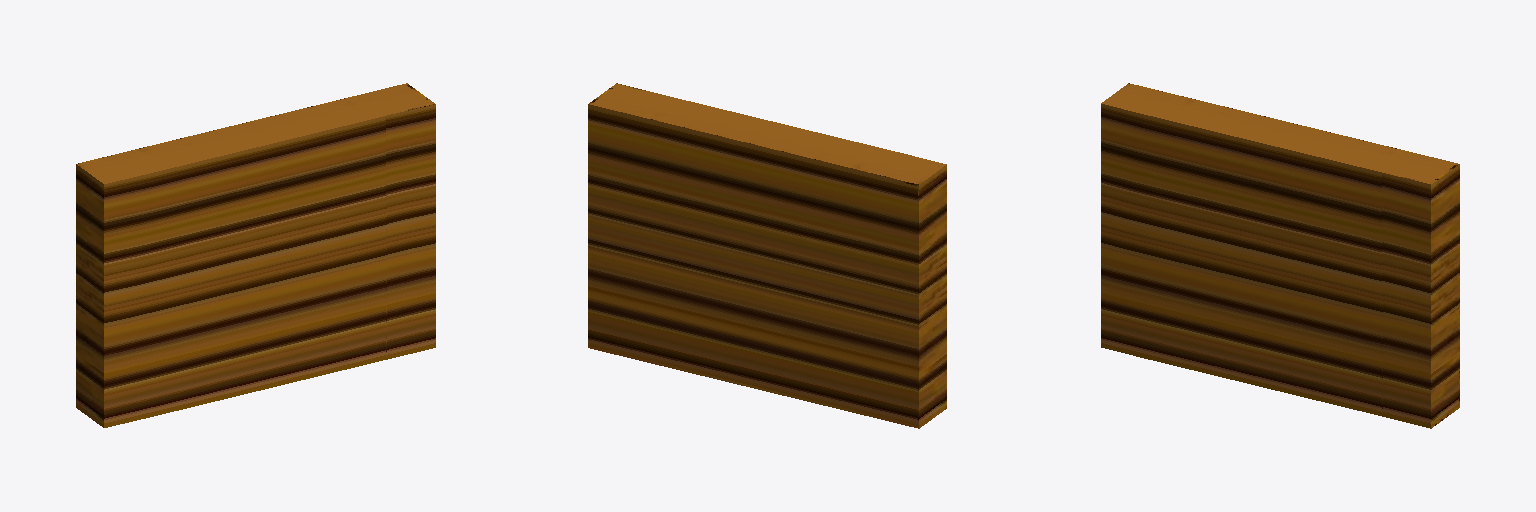
The picture shows the model from 3 angles: view 1: azimuth 30°, elevation 25°; view 2: azimuth 150°, elevation 25°; view 3: azimuth 330°, elevation 25°; orthographic projection.
Visible parts, largest first — view 1: Cube.013_Cube.056; view 2: Cube.013_Cube.056; view 3: Cube.013_Cube.056.
Part boxes in pixels (left/top/right/bottom): Cube.013_Cube.056: left=76, top=83, right=435, bottom=427; Cube.013_Cube.056: left=588, top=83, right=946, bottom=428; Cube.013_Cube.056: left=1101, top=83, right=1459, bottom=428.
Size of the model in its own units: 5.68 by 4 by 0.8512.
1 materials, 1 textured.